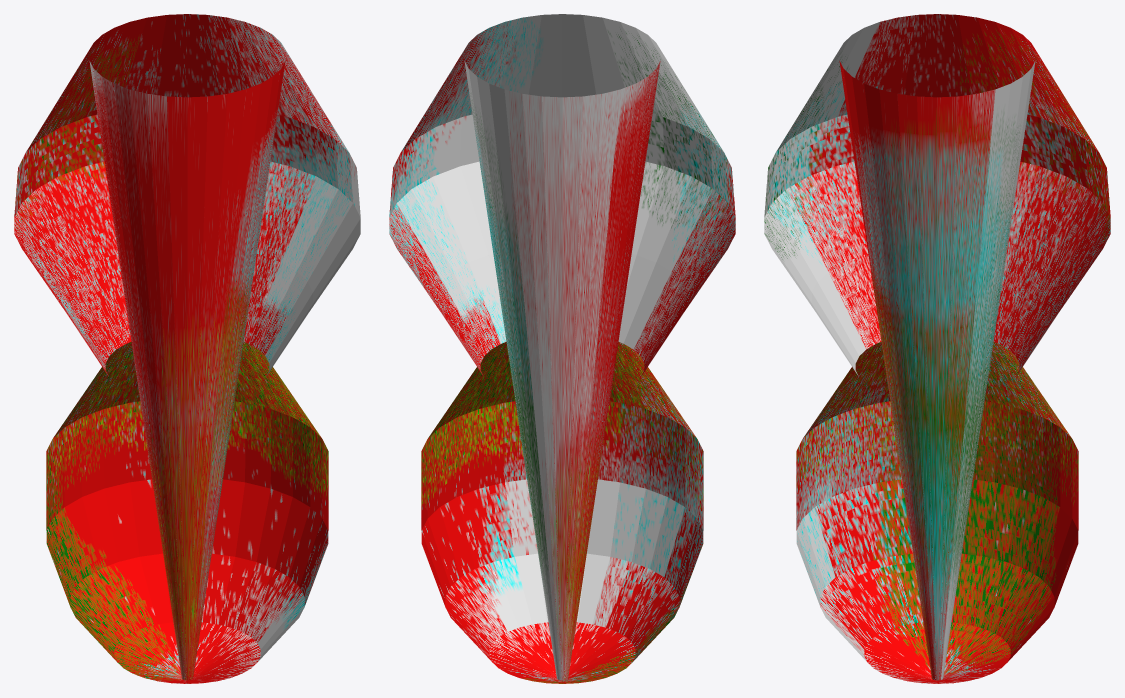
The picture shows the model from 3 angles, left to right: view 1: azimuth 30°, elevation 25°; view 2: azimuth 150°, elevation 25°; view 3: azimuth 270°, elevation 25°; orthographic projection.
Visible parts, largest first — view 1: algeomath; view 2: algeomath; view 3: algeomath.
Part boxes in pixels (bbox=[...]): algeomath: bbox=[14, 14, 360, 683]; algeomath: bbox=[389, 14, 735, 683]; algeomath: bbox=[764, 14, 1110, 683].
Size of the model in its own units: 3.48 by 6.86 by 3.46.
Materials: 1 (1 with a texture image).
